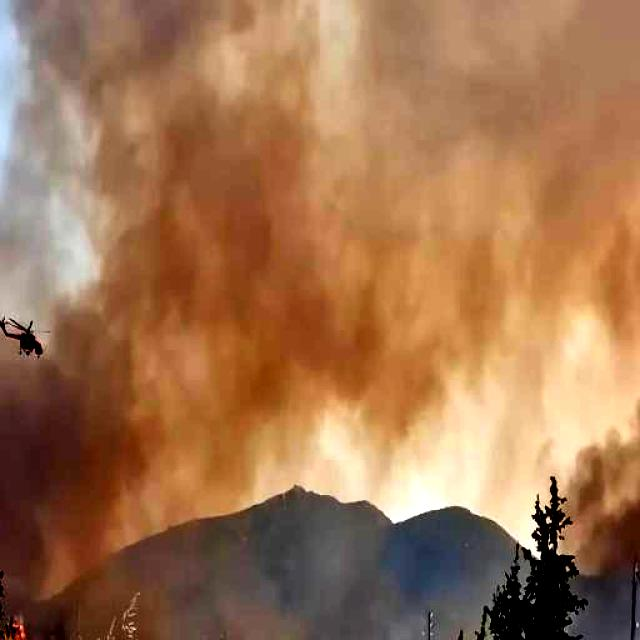drone: (0, 274, 80, 415)
